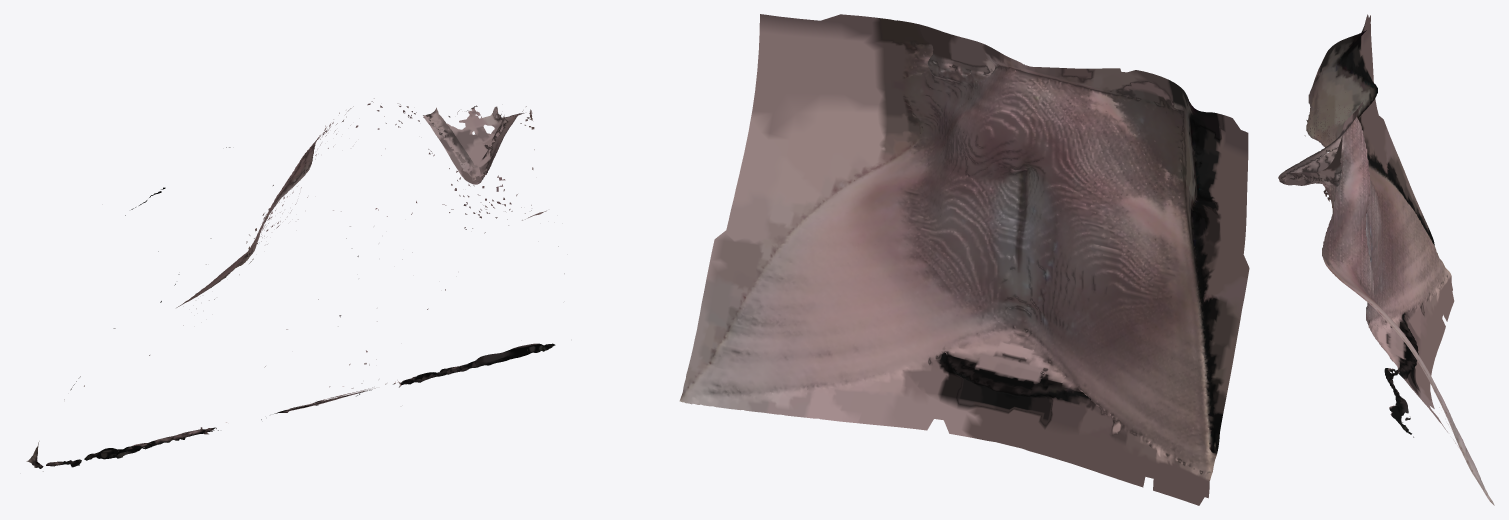
The picture shows the model from 3 angles, left to right: view 1: azimuth 30°, elevation 25°; view 2: azimuth 150°, elevation 25°; view 3: azimuth 270°, elevation 25°; orthographic projection. The views are drawn at different scales.
Size of the model in its own units: 0.00146 by 0.000954 by 0.000635.
